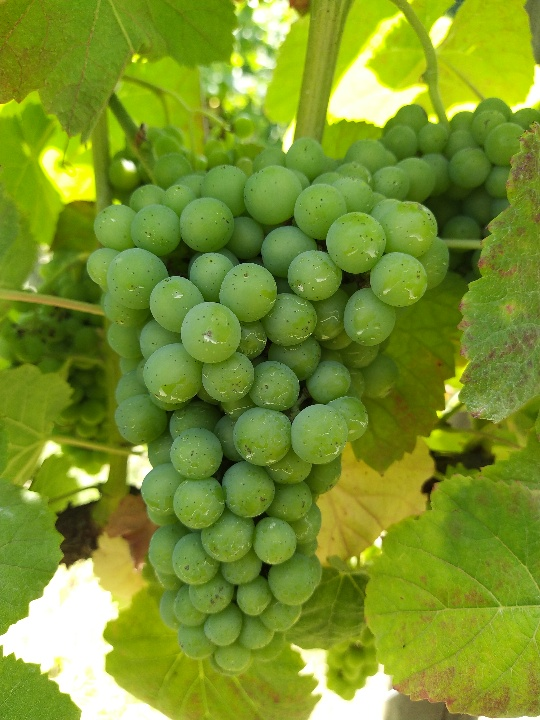grape: (82, 163, 453, 676)
